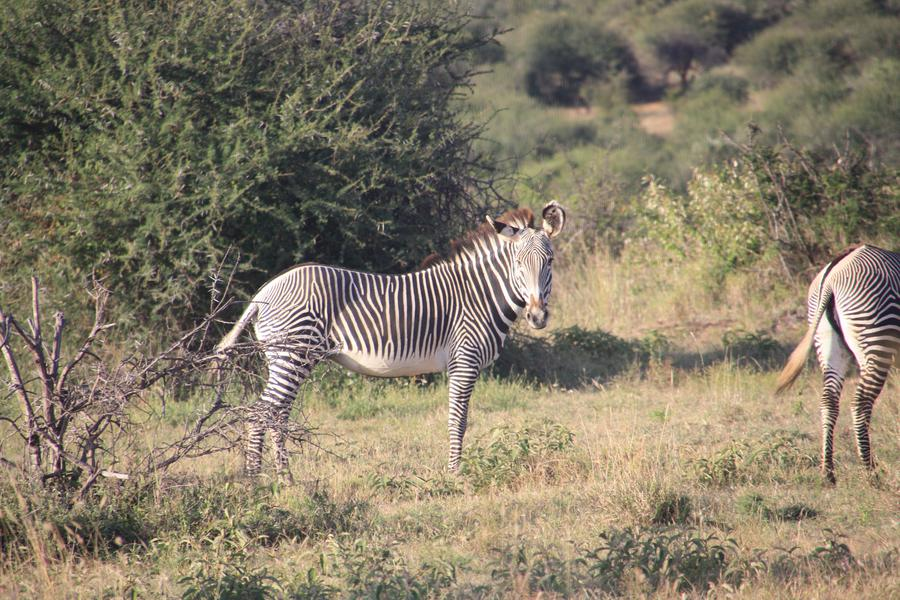zebra_grevys: (246, 263, 485, 367)
